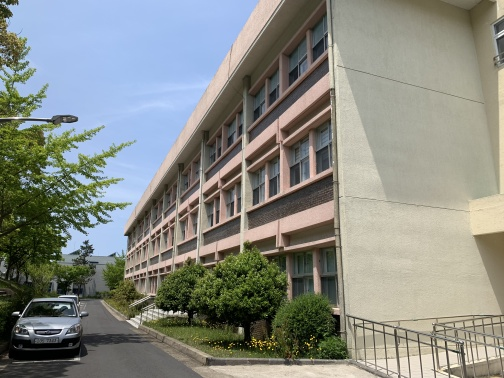College Of Education: (110, 14, 498, 367)
